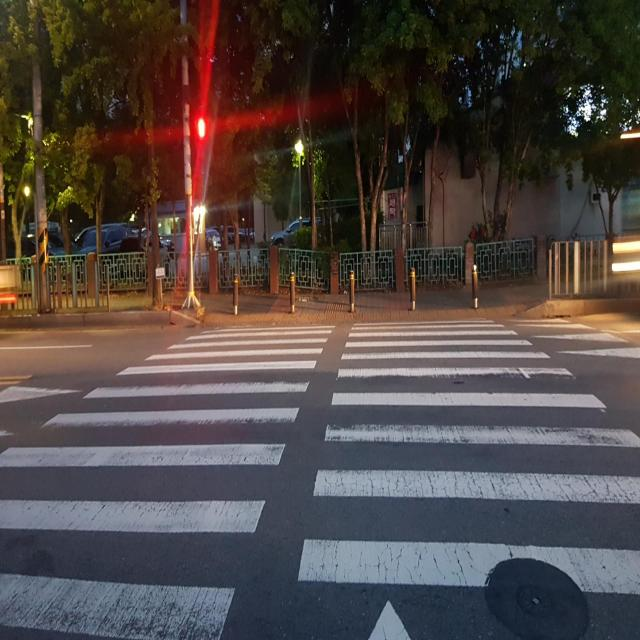빨간불: (194, 114, 210, 170)
횡단보도: (0, 317, 640, 640)
